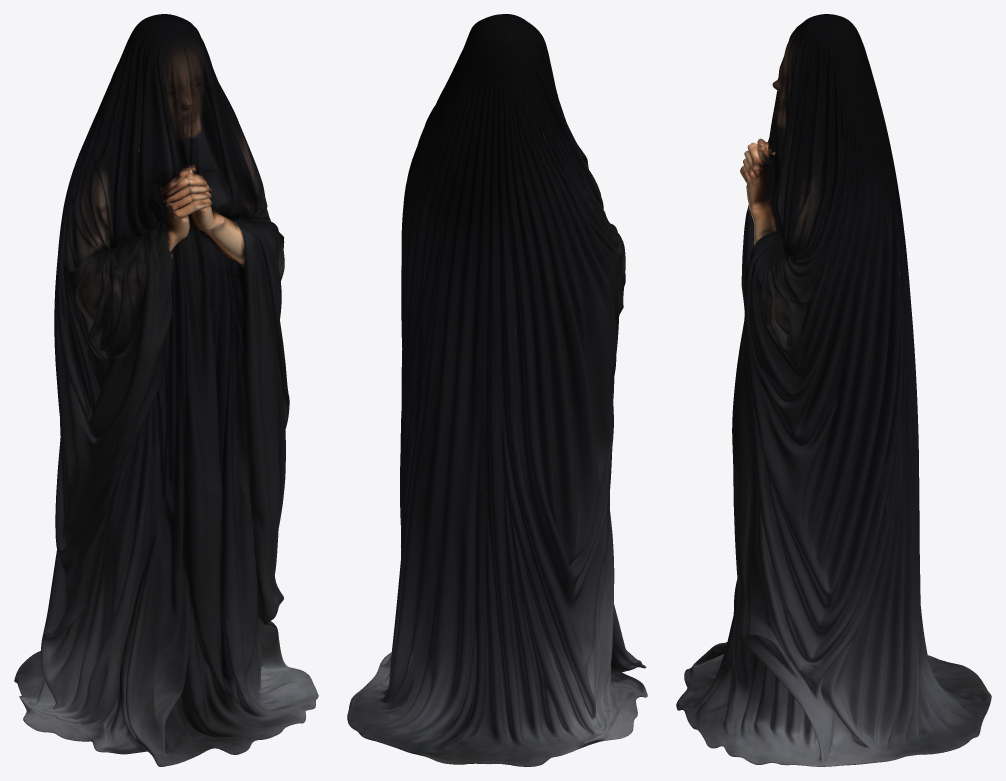
The model's file is viudita.glb.
3 renders of one model, left to right at view 1: azimuth 30°, elevation 25°; view 2: azimuth 150°, elevation 25°; view 3: azimuth 270°, elevation 25°, orthographic.
Visible parts, largest first — view 1: node_0; view 2: node_0; view 3: node_0.
Part boxes in pixels (box(x1,y1,x2,y2)): node_0: box(14, 14, 318, 766); node_0: box(347, 14, 647, 766); node_0: box(676, 14, 991, 766).
Size of the model in its own units: 0.4382 by 1.1 by 0.4566.
1 material, 1 textured.
